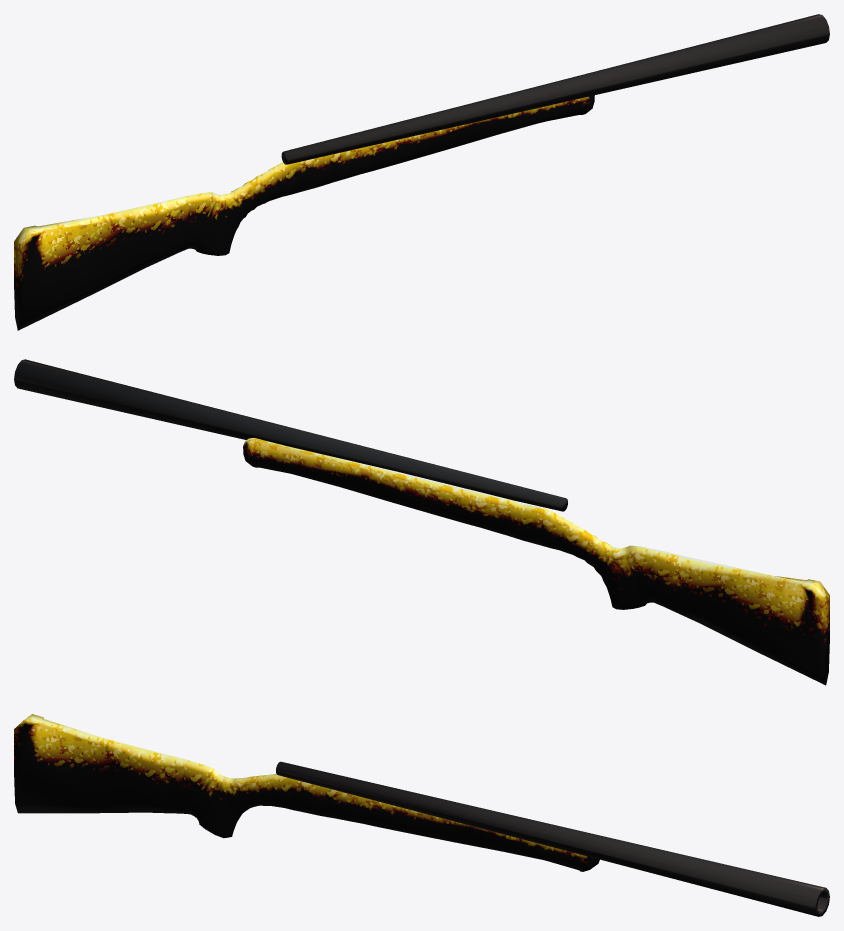
The model's file is rifle.glb.
The picture shows the model from 3 angles, top to bottom: view 1: azimuth 30°, elevation 25°; view 2: azimuth 150°, elevation 25°; view 3: azimuth 330°, elevation 25°; orthographic projection.
Visible parts, largest first — view 1: Plane.038, Cylinder.002; view 2: Plane.038, Cylinder.002; view 3: Plane.038, Cylinder.002.
Boxes of the visible parts, x1=… form: Plane.038: x1=14, y1=95, x2=594, y2=330; Cylinder.002: x1=281, y1=14, x2=829, y2=164; Plane.038: x1=243, y1=438, x2=829, y2=685; Cylinder.002: x1=14, y1=359, x2=567, y2=511; Plane.038: x1=14, y1=714, x2=599, y2=871; Cylinder.002: x1=276, y1=761, x2=829, y2=916.
Bounding box in the file's own units: 10.81 × 1.6 × 0.3708.
2 materials, 2 textured.
